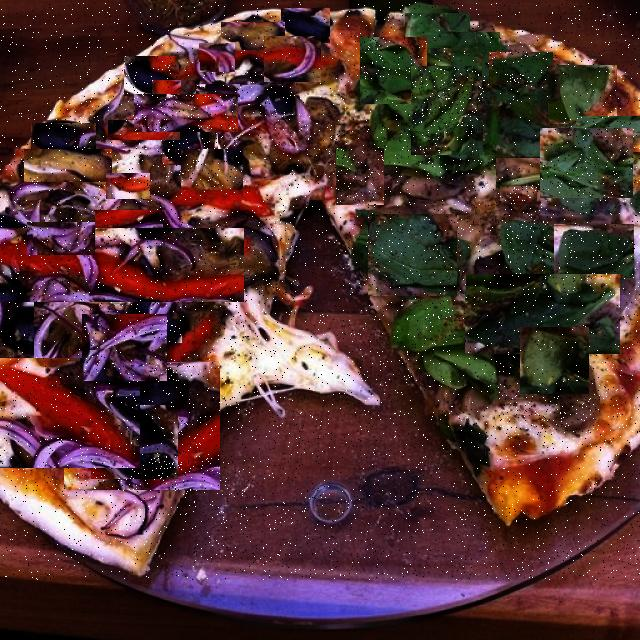Basil: (466, 274, 620, 354), (393, 298, 518, 384), (368, 214, 457, 296), (540, 128, 633, 198), (412, 66, 484, 155), (352, 79, 451, 143), (366, 117, 462, 179), (519, 242, 620, 300), (520, 327, 589, 394), (360, 37, 427, 104), (554, 224, 634, 278), (480, 105, 554, 162), (548, 65, 617, 124), (504, 213, 546, 276), (576, 116, 640, 152), (405, 13, 470, 48), (451, 32, 500, 76), (489, 52, 553, 84)
Eggplant: (64, 362, 220, 490), (171, 209, 288, 299), (14, 285, 92, 378), (264, 37, 340, 90), (126, 146, 190, 204), (24, 149, 112, 182), (181, 149, 243, 195), (221, 22, 285, 50)
Mushrooms: (500, 379, 600, 433), (336, 148, 384, 205), (496, 158, 560, 190), (446, 205, 492, 238), (386, 182, 467, 199), (0, 214, 29, 257), (500, 186, 537, 204)
Olives: (91, 405, 178, 479), (95, 210, 163, 249), (134, 295, 184, 343), (162, 124, 218, 165), (124, 56, 179, 96), (0, 302, 35, 363), (31, 123, 96, 153), (281, 8, 330, 44), (264, 90, 294, 118)
Onions: (2, 314, 71, 412), (83, 314, 167, 381), (134, 94, 238, 132), (264, 36, 321, 82), (27, 222, 95, 255), (71, 123, 134, 157), (7, 177, 48, 226), (172, 28, 216, 62), (200, 43, 235, 72), (197, 84, 240, 97)
Pizza: (0, 3, 640, 580)
Red Pepper: (0, 228, 244, 302), (0, 358, 140, 468), (198, 52, 339, 69), (166, 186, 273, 208), (108, 120, 180, 140), (106, 173, 150, 199), (152, 80, 181, 104)
